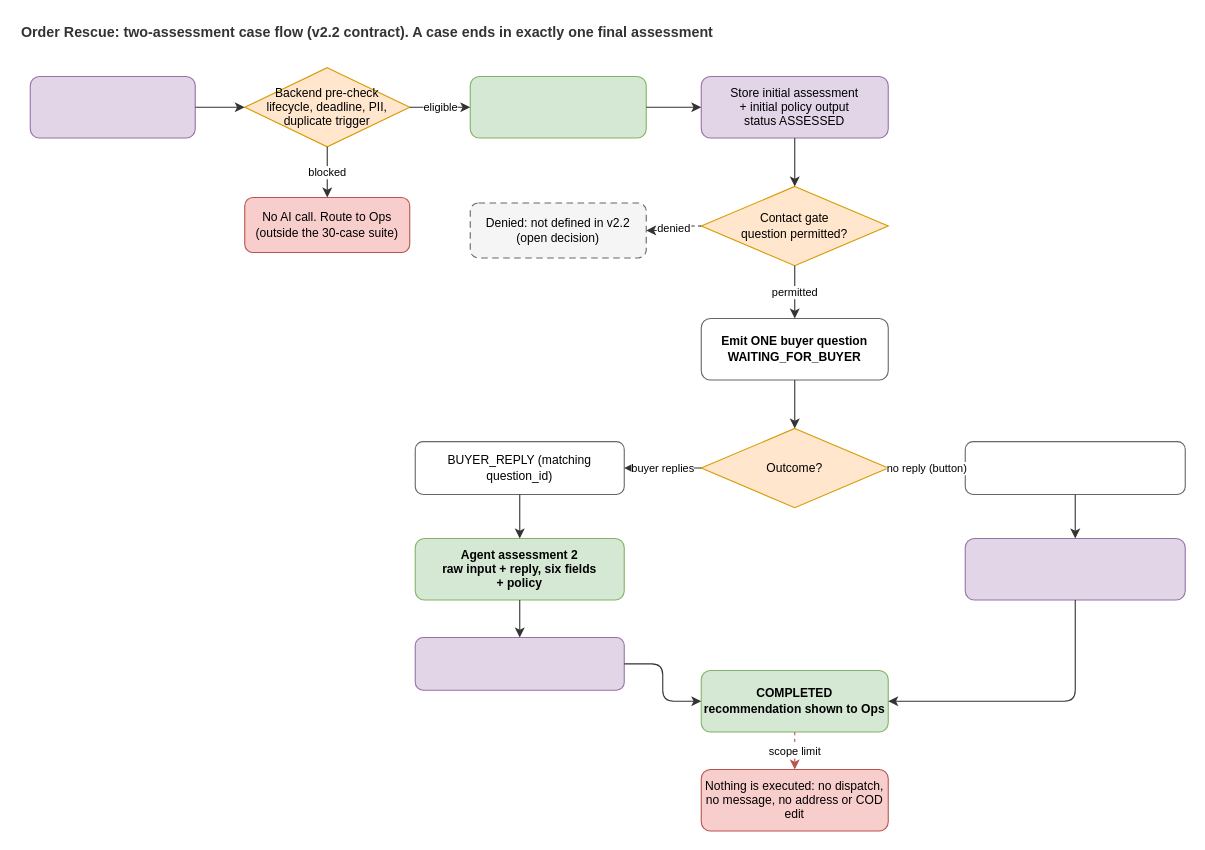
Some shapes in this 1205 by 850 pixel diagram are drawn without their labels. Each missing label, with the centre of its shape:
"Agent assessment 1 six fields" goes at [557,106].
"Final = copy of assessment 2 final_assessment_source = 2" goes at [519,663].
"No second Agent call. Final = copy of initial final_assessment_source = 1" goes at [1074,568].
"Raw input case, order, failed event, T0 buyer context" goes at [112,106].
"USER_NO_REPLY (manual demo button)" goes at [1074,467].
